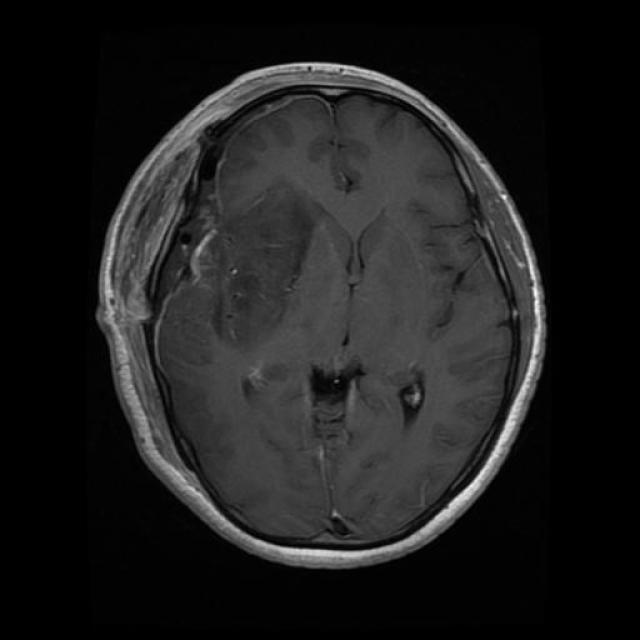glioma: (206, 182, 316, 348)
